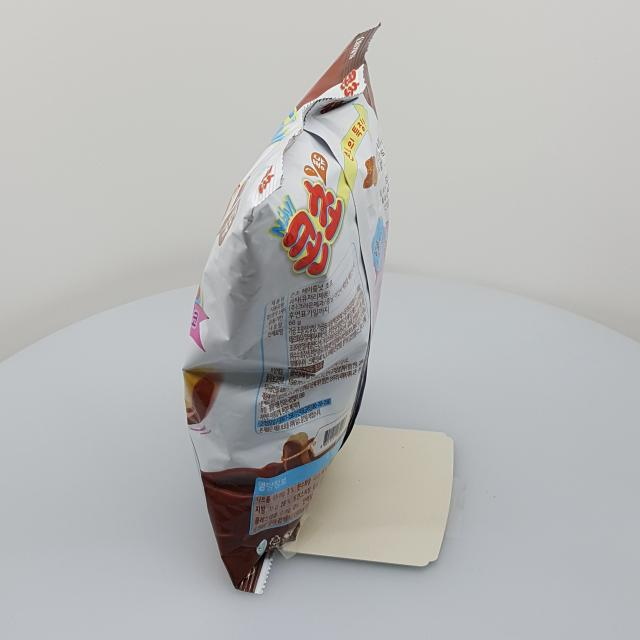-66G: (183, 24, 390, 596)
